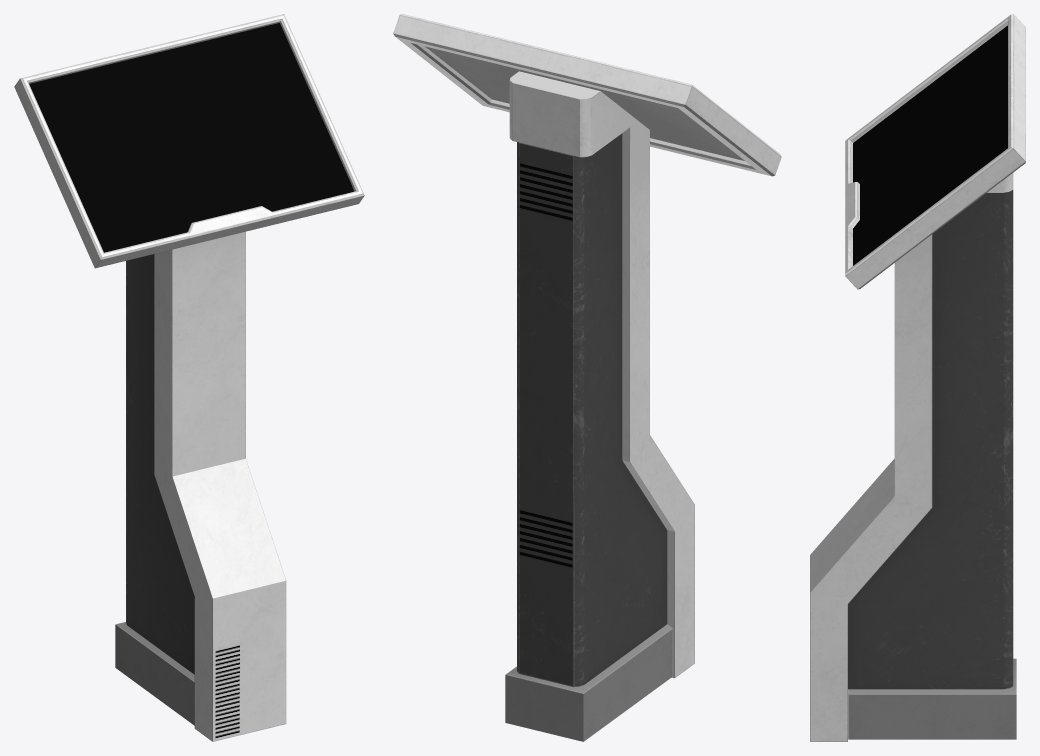
File: ControlPanel.glb
3 views of the same model, side by side, from view 1: azimuth 30°, elevation 25°; view 2: azimuth 150°, elevation 25°; view 3: azimuth 270°, elevation 25° (orthographic). The views are drawn at different scales.
Visible parts, largest first — view 1: Control_Panel; view 2: Control_Panel; view 3: Control_Panel.
Boxes of the visible parts, bbox=[...] form: Control_Panel: bbox=[14, 14, 364, 741]; Control_Panel: bbox=[393, 14, 781, 741]; Control_Panel: bbox=[810, 14, 1025, 741].
Size of the model in its own units: 2.33 by 5.2 by 1.58.
1 material, 1 textured.
